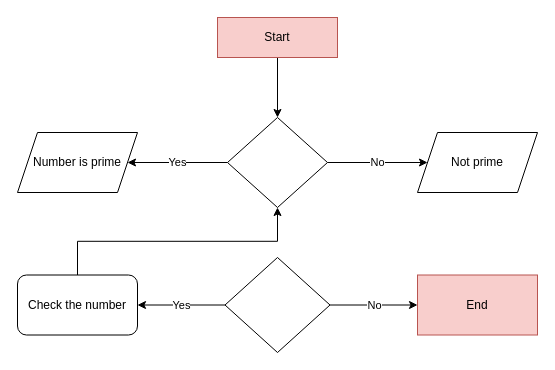
This 555x370 diagram has some shape labels left out. The shapes that lost their labels are listed below. From the top down, each one's centre as x and y in pixels, then its label:
At (277,162): "Prime?".
At (277,304): "Check another number?".
